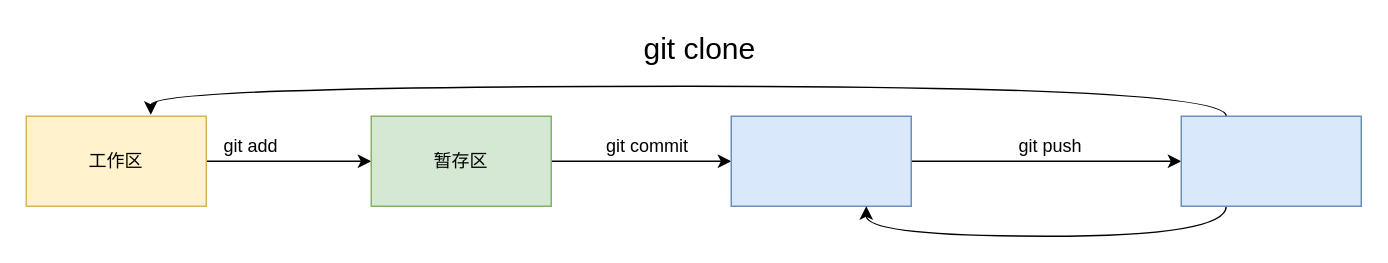
Some shapes in this 1388 by 263 pixel diagram are drawn without their labels. Each missing label, with the centre of its shape:
"本地仓库" goes at (x=820, y=160).
"远程仓库" goes at (x=1270, y=160).
